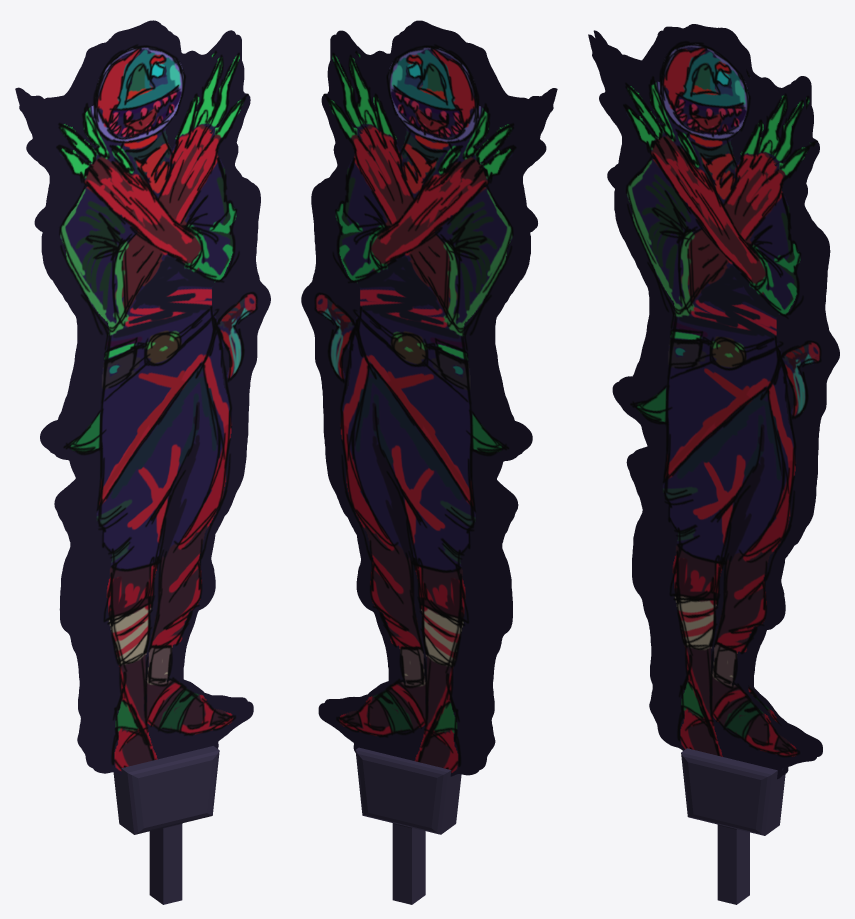
File: LongGuy.fbx
3 renders of one model, left to right at view 1: azimuth 30°, elevation 25°; view 2: azimuth 150°, elevation 25°; view 3: azimuth 330°, elevation 25°, orthographic.
Visible parts, largest first — view 1: LongGuy, LongGuyHolder; view 2: LongGuy, LongGuyHolder; view 3: LongGuy, LongGuyHolder.
Boxes of the visible parts, x1=… form: LongGuy: x1=15, y1=20, x2=270, y2=774; LongGuyHolder: x1=113, y1=746, x2=219, y2=904; LongGuy: x1=301, y1=20, x2=557, y2=776; LongGuyHolder: x1=355, y1=747, x2=461, y2=904; LongGuy: x1=588, y1=24, x2=839, y2=779; LongGuyHolder: x1=681, y1=748, x2=785, y2=904.
Size of the model in its own units: 412 by 1372 by 53.34.
